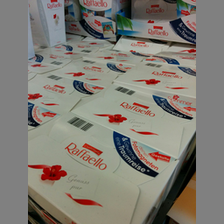candy: (29, 111, 178, 224), (75, 80, 194, 155), (28, 73, 105, 116), (55, 56, 132, 88), (28, 1, 66, 48)
